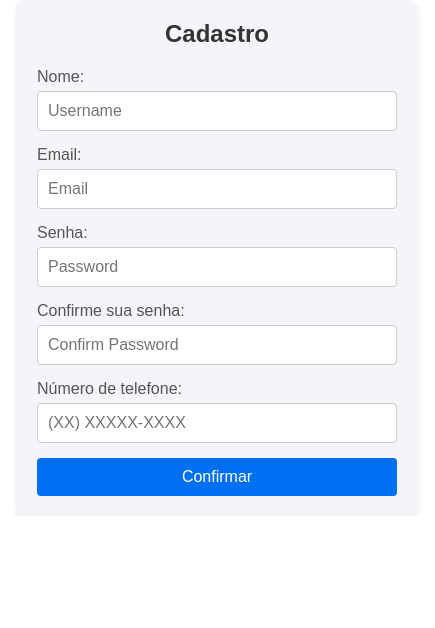
Test case: CadastroForm › deve mostrar erros quando os campos estão vazios
The width and height of the screenshot is (435, 628).
Click the button "Confirmar".
click(217, 477)  # box [37, 458, 397, 496]
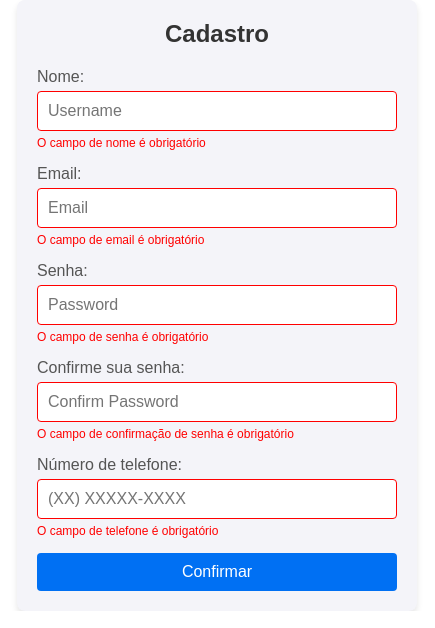
Result: the text "O campo de nome é obrigatório" is shown at [37, 136, 206, 150]
Result: the text "O campo de email é obrigatório" is shown at [37, 233, 204, 247]
Result: the text "O campo de senha é obrigatório" is shown at [37, 330, 208, 344]
